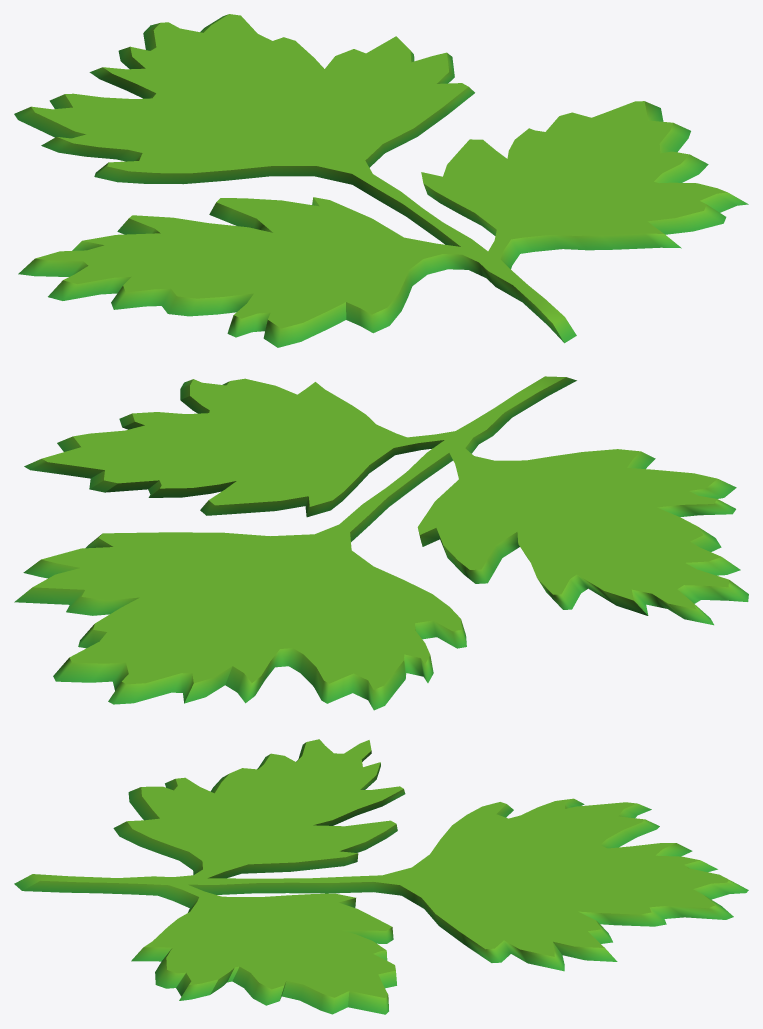
The model's file is Parsley.fbx.
The picture shows the model from 3 angles, top to bottom: view 1: azimuth 30°, elevation 25°; view 2: azimuth 150°, elevation 25°; view 3: azimuth 270°, elevation 25°; orthographic projection. The views are drawn at different scales.
Visible parts, largest first — view 1: Parsley; view 2: Parsley; view 3: Parsley.
Boxes of the visible parts, left/top/right/bottom form: Parsley: left=14, top=14, right=748, bottom=347; Parsley: left=14, top=376, right=748, bottom=710; Parsley: left=14, top=739, right=748, bottom=1014.
Bounding box in the file's own units: 72.37 × 82.3 × 1.2.
